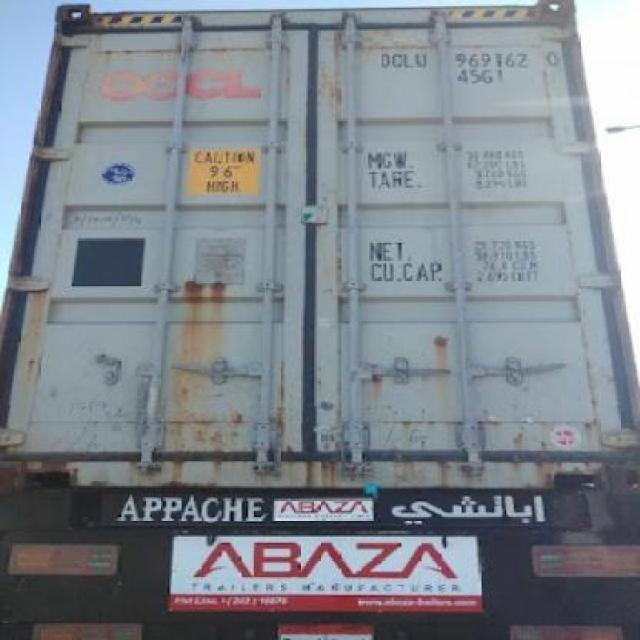ISO: (452, 65, 509, 84)
container_number: (368, 46, 562, 72)
